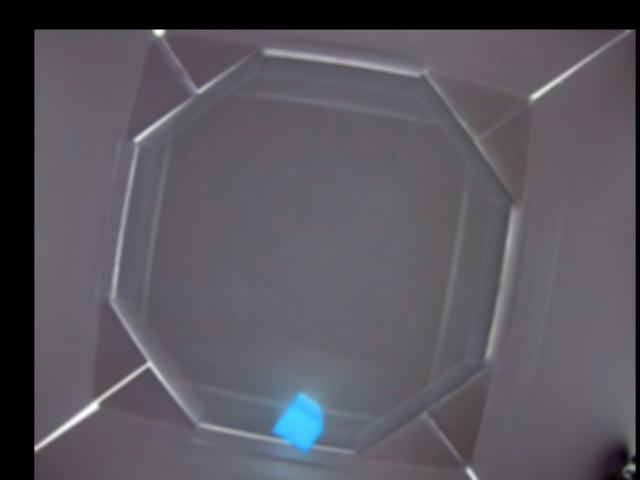Carrot: (272, 395, 325, 452)
